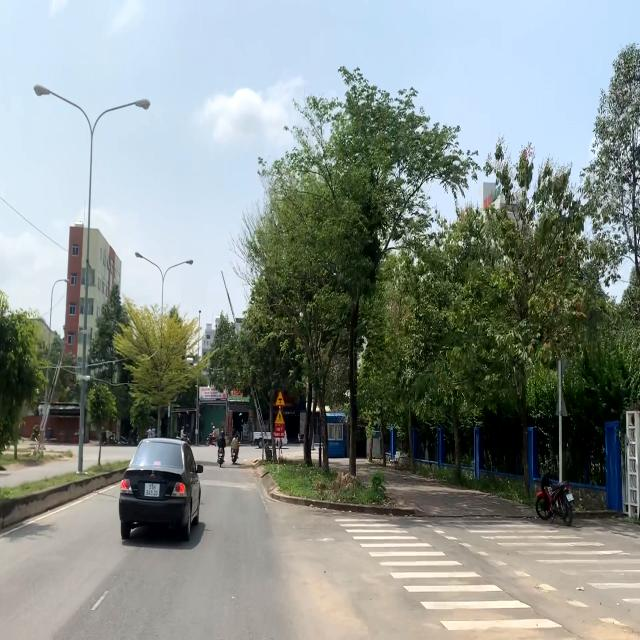W.205d: (275, 390, 286, 407)
W.224: (274, 408, 286, 425)
